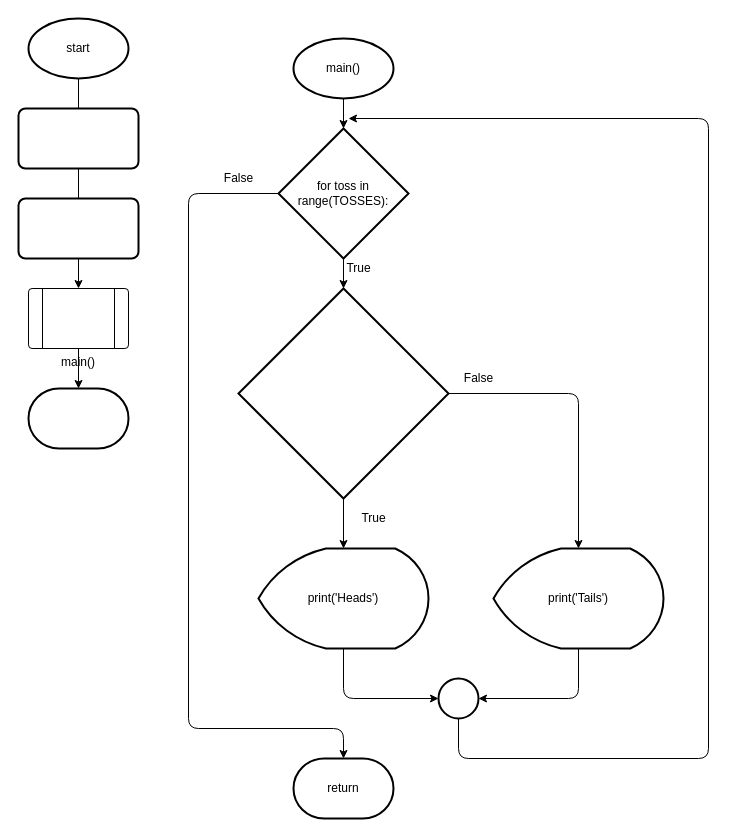
The diagram is 734 pixels wide and 836 high, and some of its shapes have lost their labels. The centre of each missing label's shape, as x and y in pixels:
"end" goes at point (78, 418).
"HEADS = 1 TAIL = 2 TOSSES = 10" goes at point (78, 228).
"import random" goes at point (78, 138).
"random.randint(HEADS,TAILS) == HEADS:" goes at point (343, 393).
